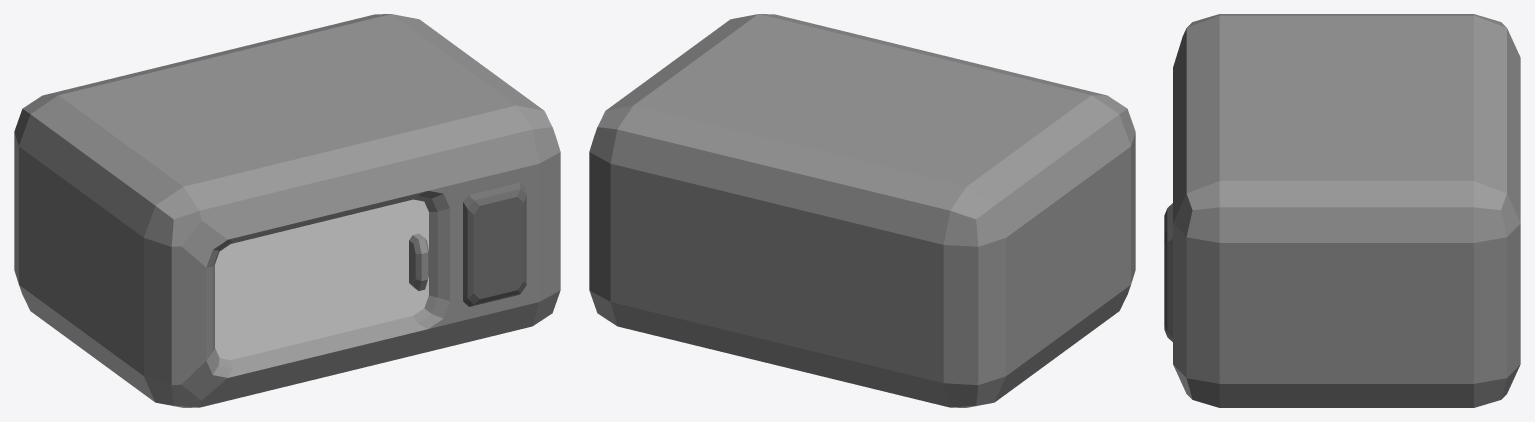
File: Microwave.fbx
The picture shows the model from 3 angles, left to right: view 1: azimuth 30°, elevation 25°; view 2: azimuth 150°, elevation 25°; view 3: azimuth 270°, elevation 25°; orthographic projection.
Visible parts, largest first — view 1: Microwave; view 2: Microwave; view 3: Microwave.
Boxes of the visible parts, x1,y1,x2,y2 form: Microwave: (14, 14, 560, 407); Microwave: (589, 14, 1135, 407); Microwave: (1164, 14, 1520, 407).
Size of the model in its own units: 0.4248 by 0.2179 by 0.3123.
1 material, 1 textured.
